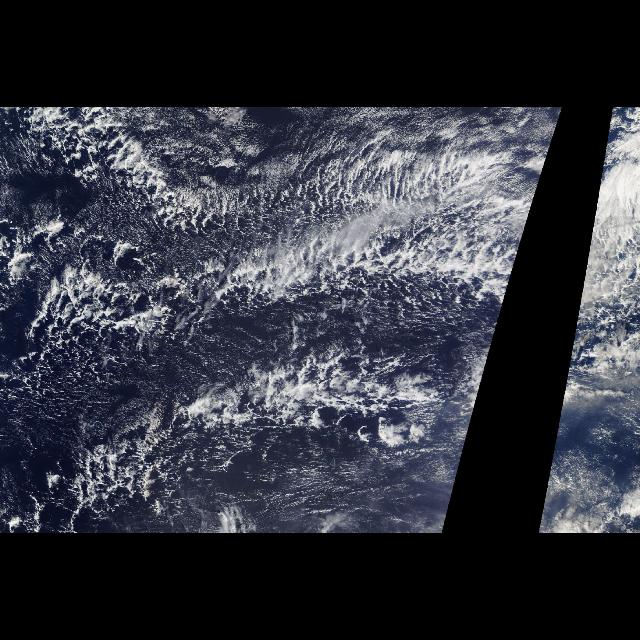Fish: (36, 235, 494, 359), (103, 128, 460, 230), (131, 366, 445, 450)
Gravel: (9, 152, 460, 364)
Sugar: (113, 108, 563, 176), (188, 450, 464, 532), (1, 382, 141, 442), (536, 450, 638, 532), (600, 108, 614, 176)
